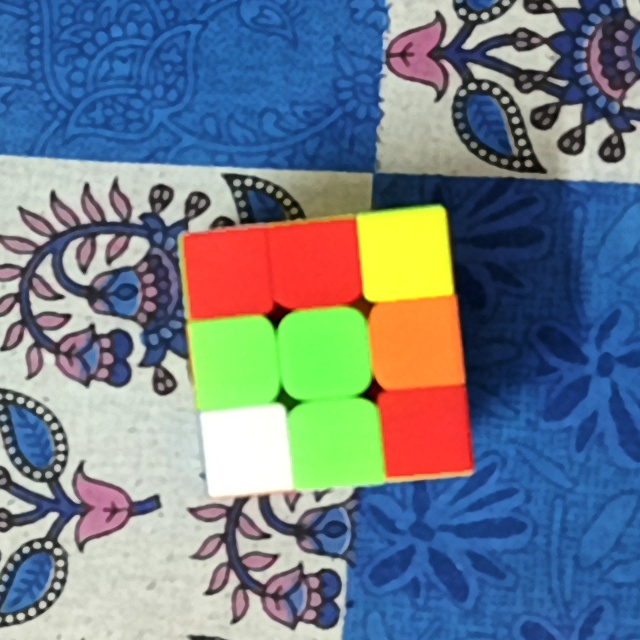tile: (276, 230, 349, 301), (211, 414, 280, 487), (201, 328, 272, 397), (299, 412, 376, 475), (393, 397, 462, 466), (194, 236, 264, 303), (381, 312, 452, 376), (291, 326, 364, 387), (372, 218, 437, 286)
